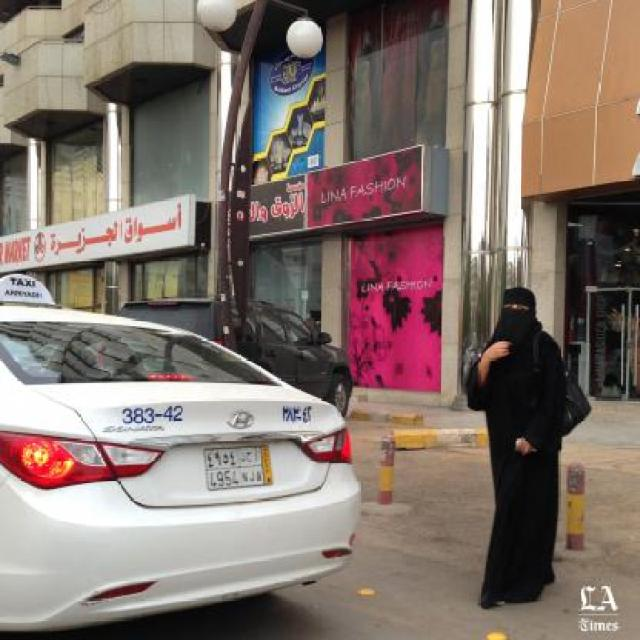license_plate: (202, 445, 275, 492)
